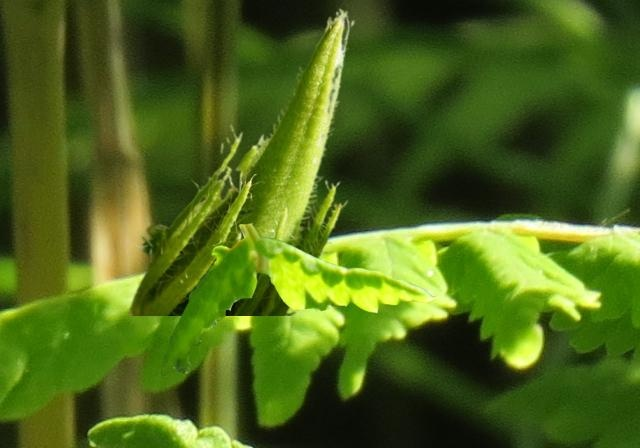okra: (125, 7, 354, 314)
